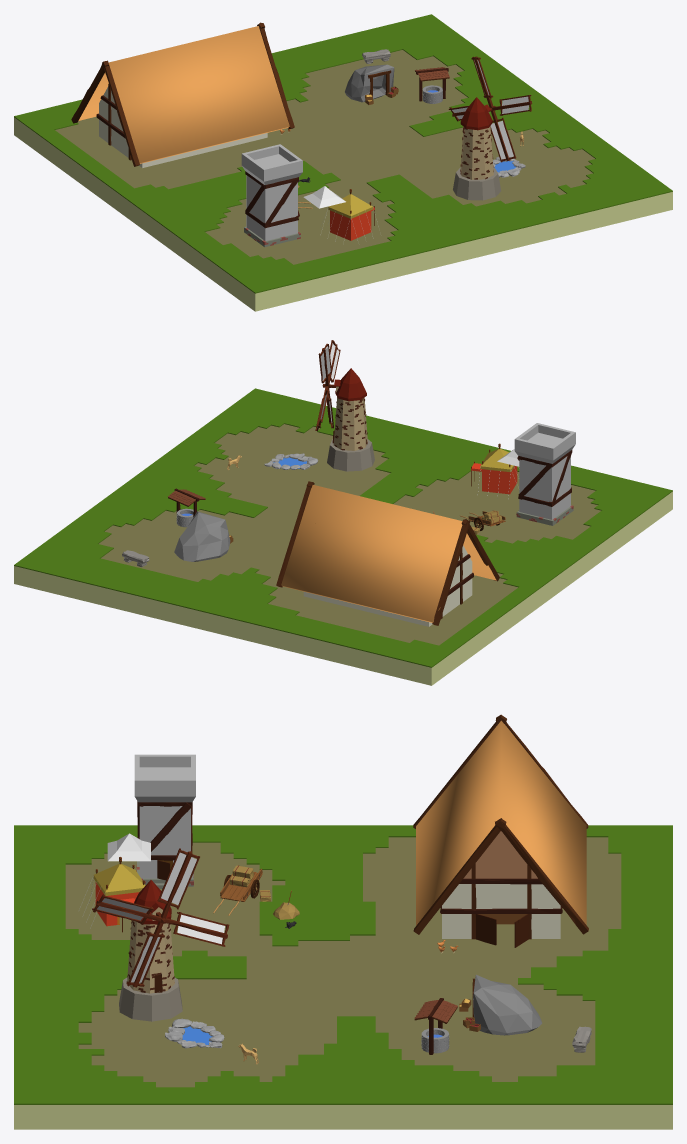
File: parcel3d.glb
3 renders of one model, top to bottom at view 1: azimuth 30°, elevation 25°; view 2: azimuth 150°, elevation 25°; view 3: azimuth 270°, elevation 25°, orthographic. The views are drawn at different scales.
Parts seen in each view (by area): view 1: Herbe, Chemin, Toit ferme, Base, Cube.015, Ferme, Tour moulin, Icosphere, Base moulin, Cube.017, Support.008, Toit moulin (+4 smaller); view 2: Herbe, Chemin, Toit ferme, Base, Cube.015, Icosphere, Ferme, Tour moulin, Base moulin, Cube.017, Support.009, Toit moulin (+1 smaller); view 3: Herbe, Chemin, Toit ferme, Base, Cube.015, Ferme, Icosphere, Base moulin, Tour moulin, Ferme haut, Support.007, Toit tente (+6 smaller).
Boxes of the visible parts, left/top/right/bottom form: Herbe: left=14, top=14, right=672, bottom=293; Chemin: left=55, top=50, right=594, bottom=264; Toit ferme: left=78, top=26, right=289, bottom=163; Base: left=14, top=117, right=672, bottom=311; Cube.015: left=241, top=144, right=302, bottom=240; Ferme: left=99, top=86, right=267, bottom=167; Tour moulin: left=460, top=126, right=493, bottom=179; Icosphere: left=345, top=64, right=394, bottom=102; Base moulin: left=453, top=167, right=501, bottom=200; Cube.017: left=330, top=207, right=374, bottom=240; Support.008: left=102, top=60, right=139, bottom=166; Toit moulin: left=460, top=97, right=492, bottom=130; Herbe: left=14, top=388, right=672, bottom=667; Chemin: left=99, top=424, right=600, bottom=645; Toit ferme: left=281, top=485, right=496, bottom=622; Base: left=14, top=491, right=672, bottom=685; Cube.015: left=514, top=423, right=575, bottom=519; Icosphere: left=174, top=511, right=230, bottom=561; Ferme: left=303, top=545, right=472, bottom=626; Tour moulin: left=333, top=397, right=367, bottom=450; Base moulin: left=327, top=439, right=374, bottom=471; Cube.017: left=471, top=463, right=517, bottom=494; Support.009: left=432, top=519, right=469, bottom=625; Toit moulin: left=335, top=368, right=366, bottom=401; Herbe: left=14, top=825, right=672, bottom=1104; Chemin: left=65, top=837, right=621, bottom=1087; Toit ferme: left=416, top=720, right=586, bottom=925; Base: left=14, top=1105, right=672, bottom=1129; Cube.015: left=134, top=754, right=195, bottom=878; Ferme: left=442, top=884, right=560, bottom=938; Icosphere: left=473, top=974, right=542, bottom=1035; Base moulin: left=119, top=977, right=182, bottom=1021; Tour moulin: left=127, top=920, right=174, bottom=993; Ferme haut: left=463, top=831, right=537, bottom=878; Support.007: left=495, top=818, right=588, bottom=934; Toit tente: left=93, top=863, right=145, bottom=895.
Bounding box in the file's own units: 10 × 3.21 × 10.
